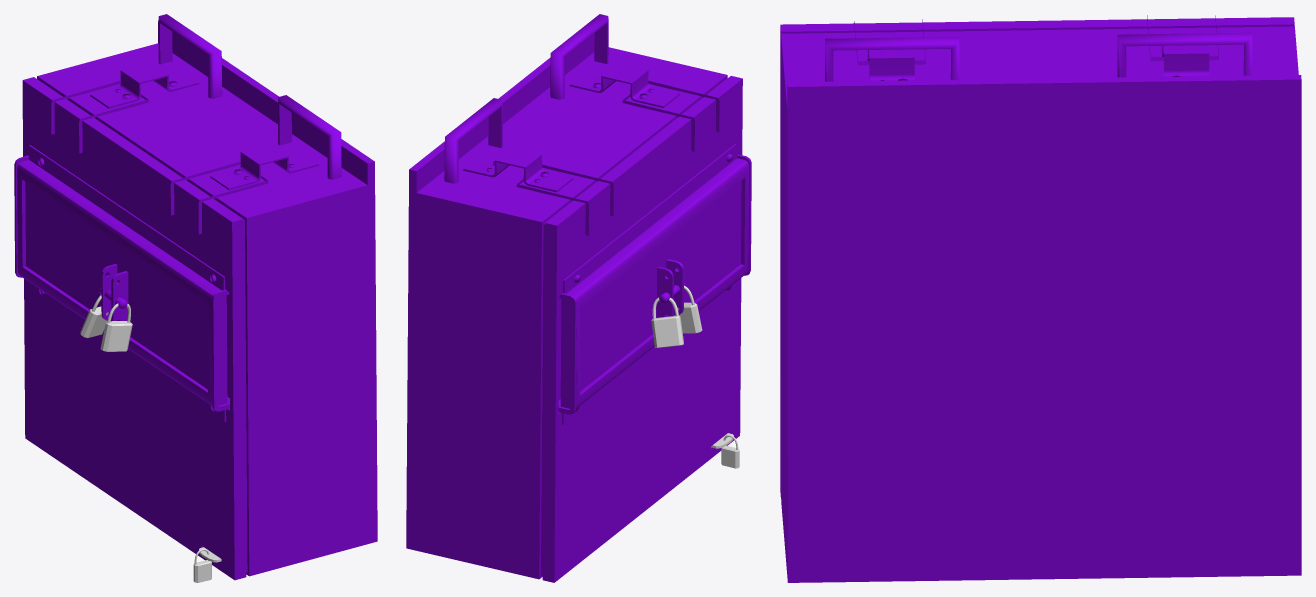
Rendered from Power Box.fbx.
3 views of the same model, side by side, from view 1: azimuth 30°, elevation 25°; view 2: azimuth 150°, elevation 25°; view 3: azimuth 270°, elevation 25° (orthographic). The views are drawn at different scales.
Parts seen in each view (by area): view 1: Object_4.001, BezierCurve.002; view 2: Object_4.001, BezierCurve.002; view 3: Object_4.001.
Part boxes in pixels (left/top/right/bottom): Object_4.001: left=14, top=14, right=377, bottom=580; BezierCurve.002: left=80, top=295, right=221, bottom=582; Object_4.001: left=406, top=14, right=751, bottom=582; BezierCurve.002: left=651, top=285, right=739, bottom=468; Object_4.001: left=780, top=15, right=1301, bottom=582.
Size of the model in its own units: 25.93 by 53.27 by 46.41.
